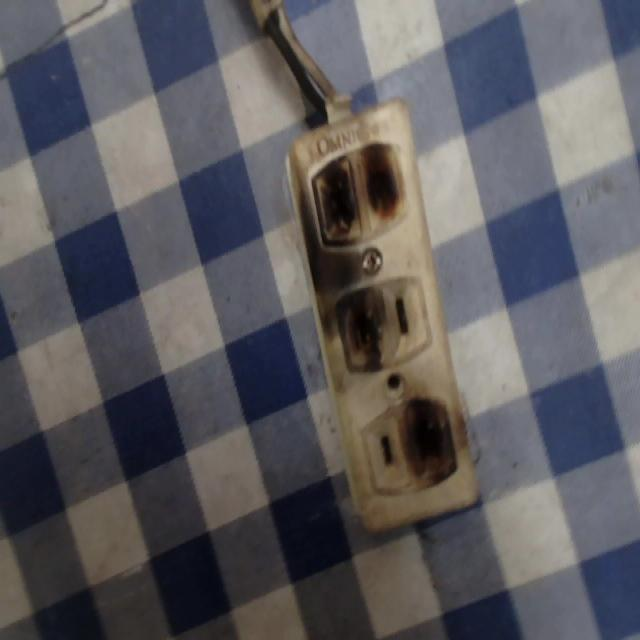-: (308, 132, 412, 247), (388, 385, 462, 488), (326, 277, 394, 375)
